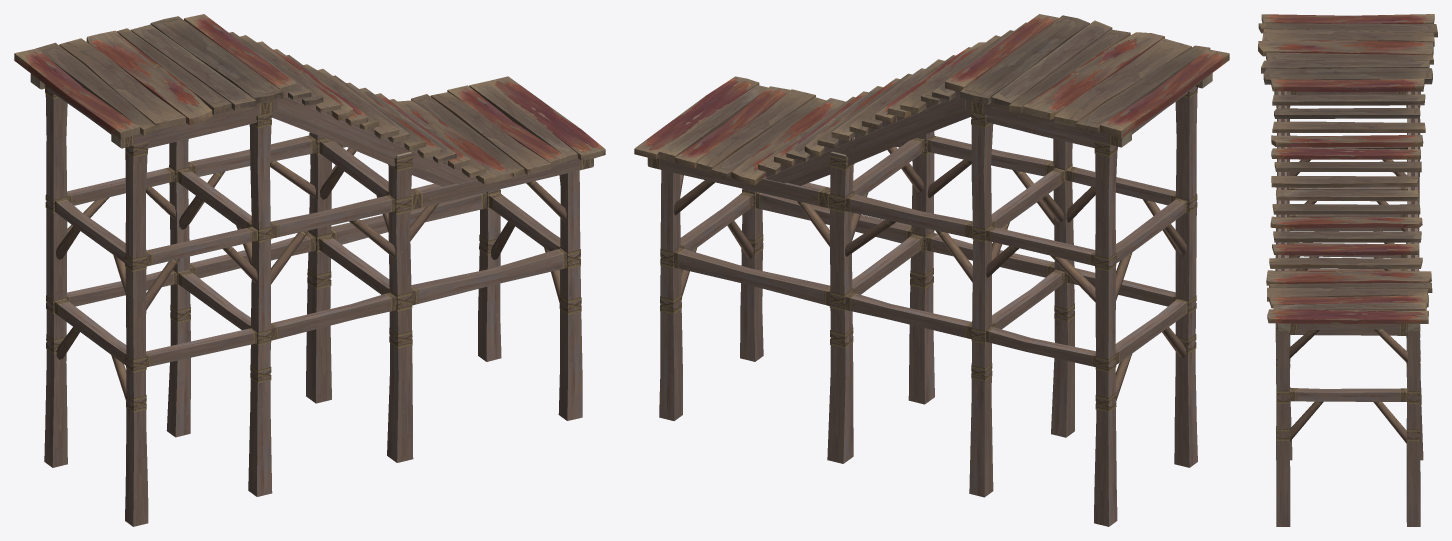
The model's file is Area_MdProps_Scaffolding01.fbx.
3 renders of one model, left to right at view 1: azimuth 30°, elevation 25°; view 2: azimuth 150°, elevation 25°; view 3: azimuth 270°, elevation 25°, orthographic. The views are drawn at different scales.
Visible parts, largest first — view 1: Area_MdProps_Scaffolding01, Area_MdProps_Scaffolding01_02; view 2: Area_MdProps_Scaffolding01, Area_MdProps_Scaffolding01_02; view 3: Area_MdProps_Scaffolding01, Area_MdProps_Scaffolding01_02.
Boxes of the visible parts, x1=… form: Area_MdProps_Scaffolding01: x1=14, y1=14, x2=605, y2=526; Area_MdProps_Scaffolding01_02: x1=54, y1=135, x2=567, y2=400; Area_MdProps_Scaffolding01: x1=634, y1=14, x2=1229, y2=526; Area_MdProps_Scaffolding01_02: x1=673, y1=135, x2=1188, y2=400; Area_MdProps_Scaffolding01: x1=1258, y1=14, x2=1437, y2=526; Area_MdProps_Scaffolding01_02: x1=1277, y1=159, x2=1418, y2=443.
Bounding box in the file's own units: 131 × 103 × 51.32.
2 materials, 2 textured.
